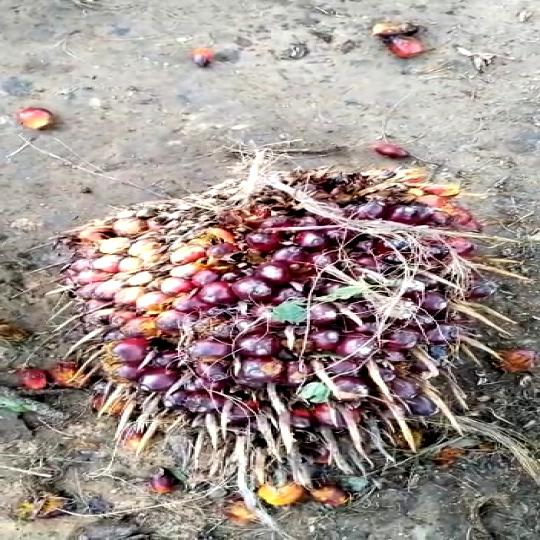masak: (56, 159, 540, 524)
